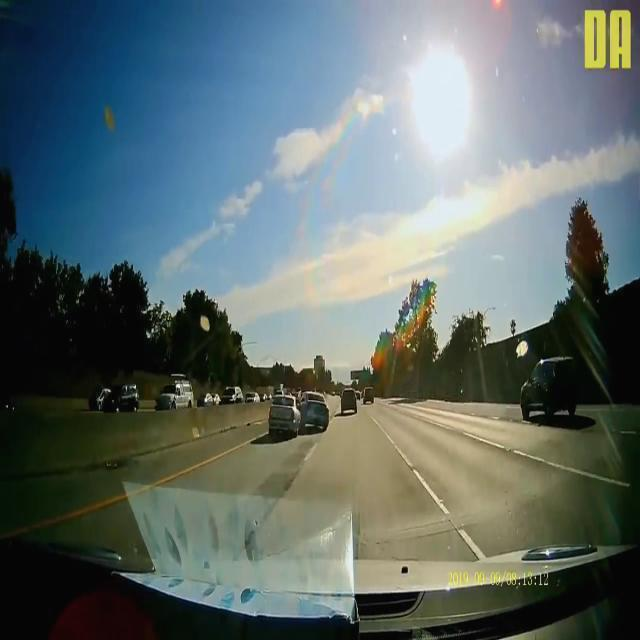accident: (266, 390, 330, 440)
non-accident: (90, 376, 194, 414), (200, 384, 260, 408), (339, 384, 375, 416)
